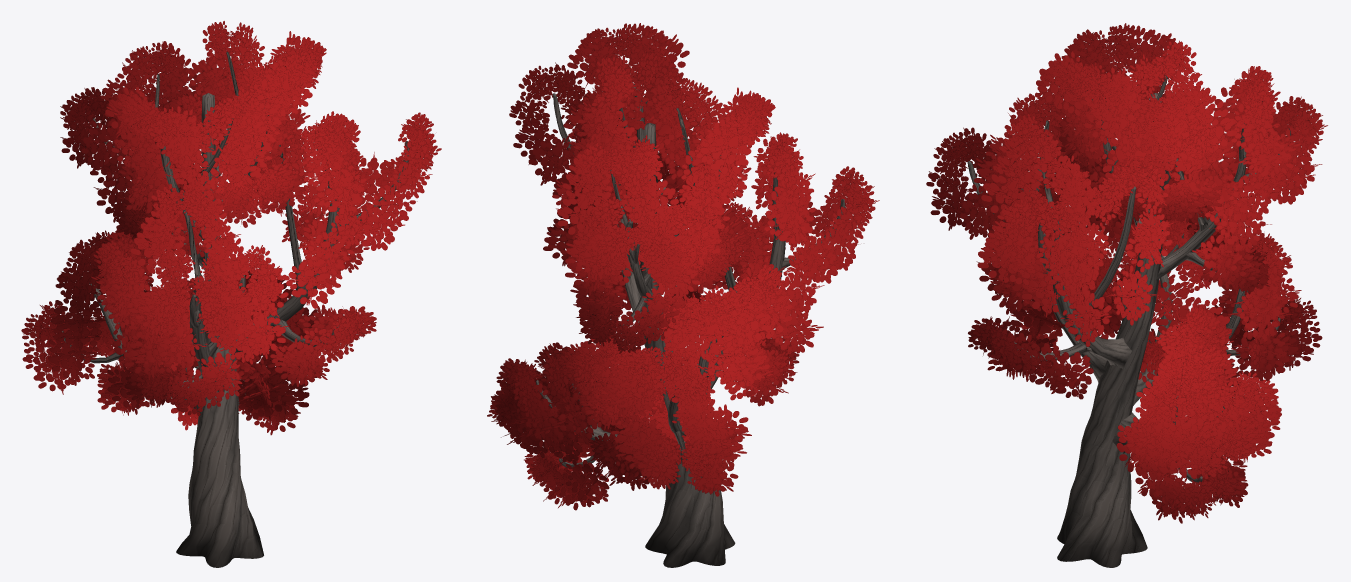
Rendered from TwistedTree_3.gltf.
3 views of the same model, side by side, from view 1: azimuth 30°, elevation 25°; view 2: azimuth 150°, elevation 25°; view 3: azimuth 270°, elevation 25° (orthographic). The views are drawn at different scales.
Parts seen in each view (by area): view 1: TwistedTree_3; view 2: TwistedTree_3; view 3: TwistedTree_3.
Part boxes in pixels (x1,y1,x2,y2): TwistedTree_3: (21,21,441,567); TwistedTree_3: (487,23,879,567); TwistedTree_3: (926,23,1327,567).
Size of the model in its own units: 11.36 by 16.07 by 11.51.
Materials: 2 (2 with a texture image).
